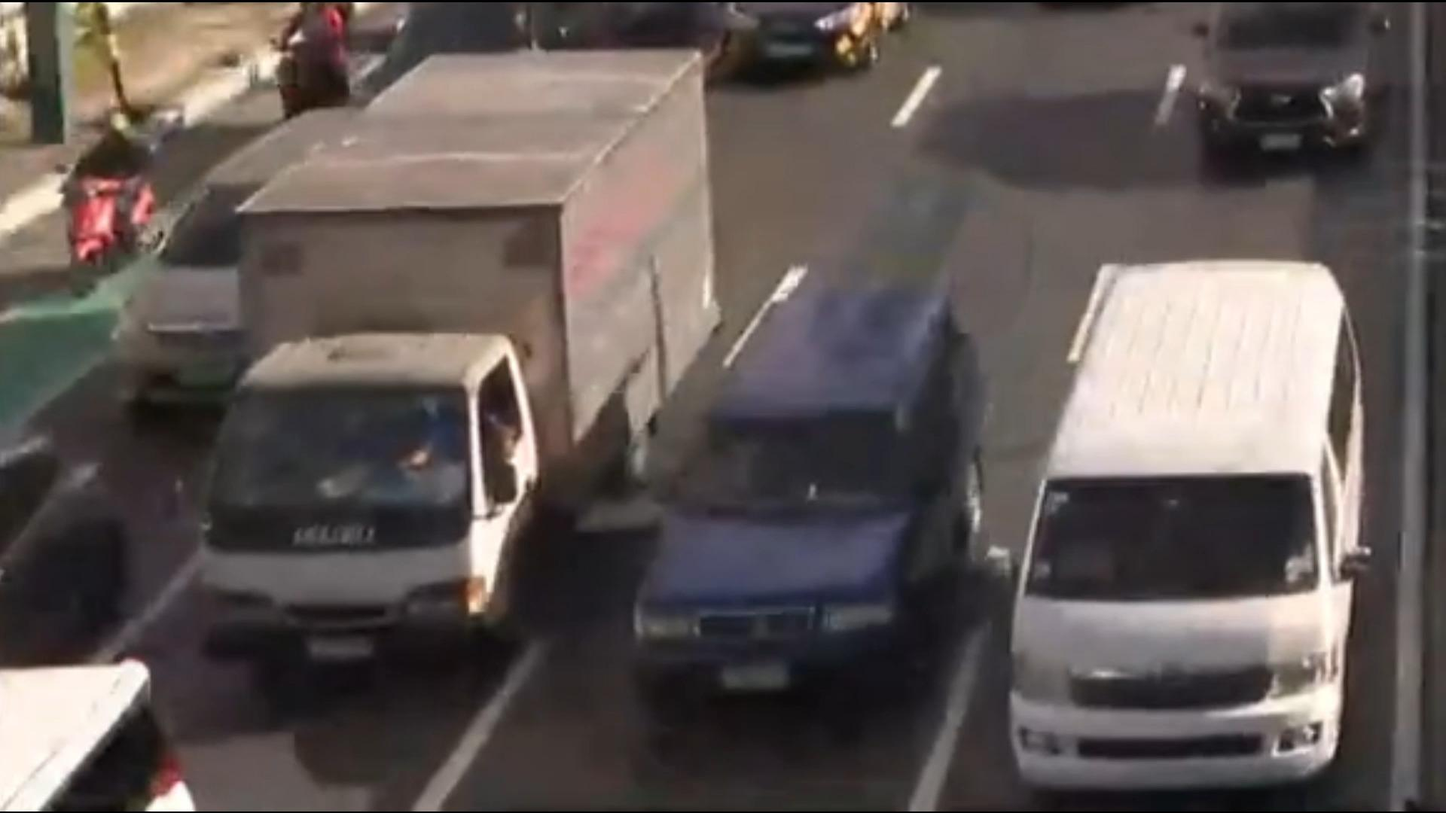Motorcycle: (31, 62, 175, 298), (257, 0, 386, 140)
SUV: (602, 269, 1027, 755), (117, 86, 504, 390), (1170, 0, 1409, 200)
Truck: (180, 40, 746, 726)
Van: (974, 234, 1439, 792)
